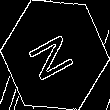N_NE: (27, 26, 83, 84)
